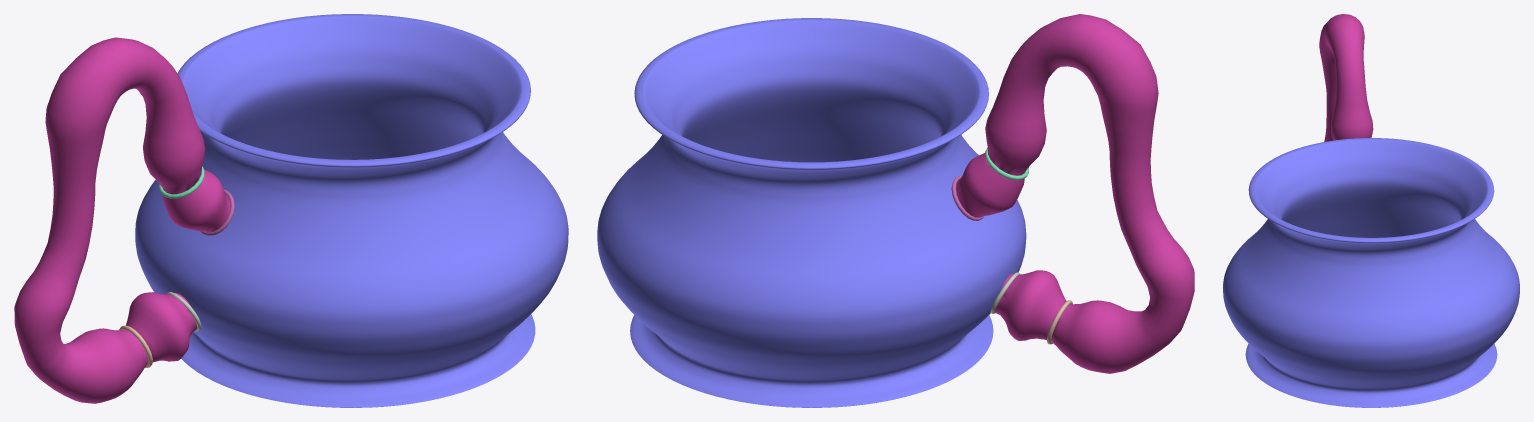
3 renders of one model, left to right at view 1: azimuth 30°, elevation 25°; view 2: azimuth 150°, elevation 25°; view 3: azimuth 270°, elevation 25°, orthographic. The views are drawn at different scales.
Visible parts, largest first — view 1: Teatime_q:pCylinder2_Teatime_q:blinn2_0, Teatime_q:pCylinder3_Teatime_q:blinn2_0; view 2: Teatime_q:pCylinder2_Teatime_q:blinn2_0, Teatime_q:pCylinder3_Teatime_q:blinn2_0; view 3: Teatime_q:pCylinder2_Teatime_q:blinn2_0, Teatime_q:pCylinder3_Teatime_q:blinn2_0.
Boxes of the visible parts, x1=… form: Teatime_q:pCylinder2_Teatime_q:blinn2_0: x1=135, y1=14, x2=568, y2=407; Teatime_q:pCylinder3_Teatime_q:blinn2_0: x1=14, y1=37, x2=230, y2=403; Teatime_q:pCylinder2_Teatime_q:blinn2_0: x1=597, y1=18, x2=1026, y2=407; Teatime_q:pCylinder3_Teatime_q:blinn2_0: x1=956, y1=14, x2=1194, y2=373; Teatime_q:pCylinder2_Teatime_q:blinn2_0: x1=1223, y1=138, x2=1519, y2=407; Teatime_q:pCylinder3_Teatime_q:blinn2_0: x1=1319, y1=14, x2=1373, y2=141.
Bounding box in the file's own units: 1 × 0.6424 × 0.687.
